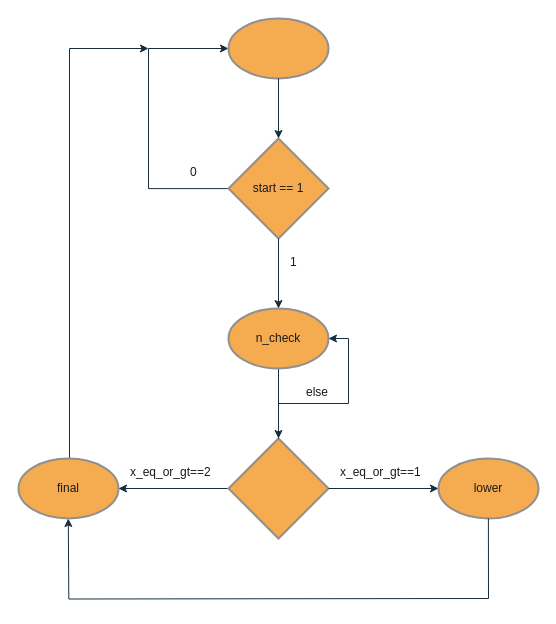
Image size: 556x624. Some labels were removed from this diagram. Each missing label, with the box of its shape:
IDLE: (227, 17, 329, 79)
x_eq_or_gt ++x_icr: (227, 437, 329, 539)
